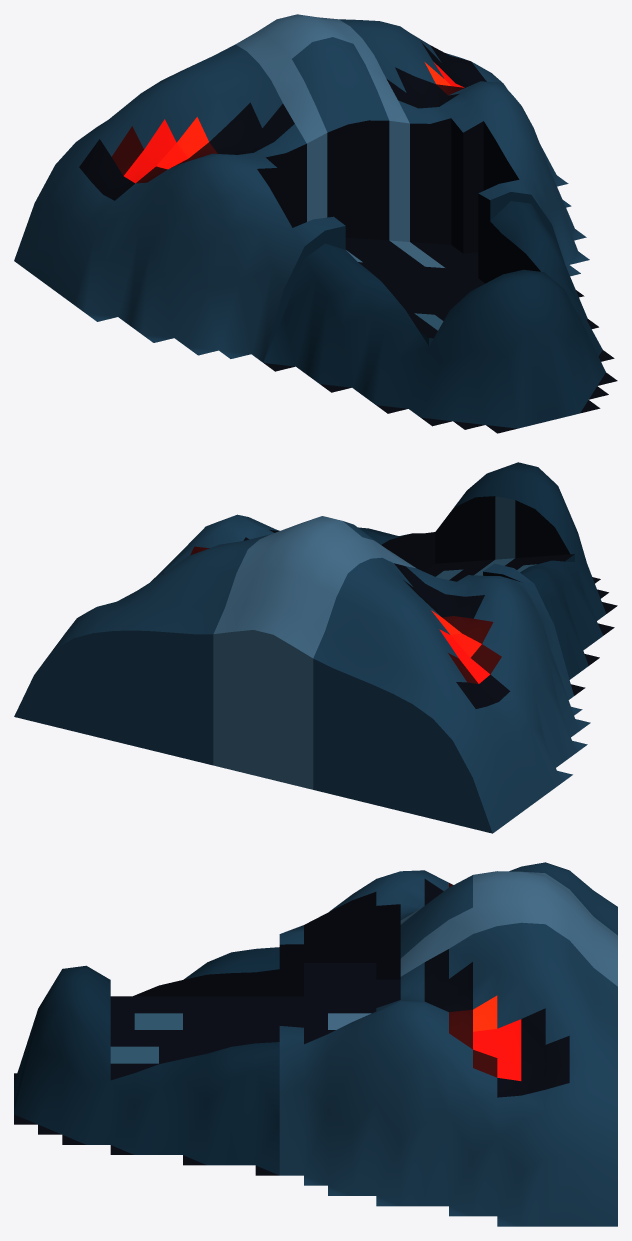
Rendered from newsh0-119-f4.glb.
3 views of the same model, one above another, from view 1: azimuth 30°, elevation 25°; view 2: azimuth 150°, elevation 25°; view 3: azimuth 270°, elevation 25° (orthographic). The views are drawn at different scales.
Visible parts, largest first — view 1: newsh0-119-f4; view 2: newsh0-119-f4; view 3: newsh0-119-f4.
Boxes of the visible parts, x1,y1,x2,y2 form: newsh0-119-f4: [14, 14, 617, 433]; newsh0-119-f4: [14, 462, 617, 833]; newsh0-119-f4: [14, 862, 617, 1226].
Bounding box in the file's own units: 2 × 0.8477 × 2.08.
